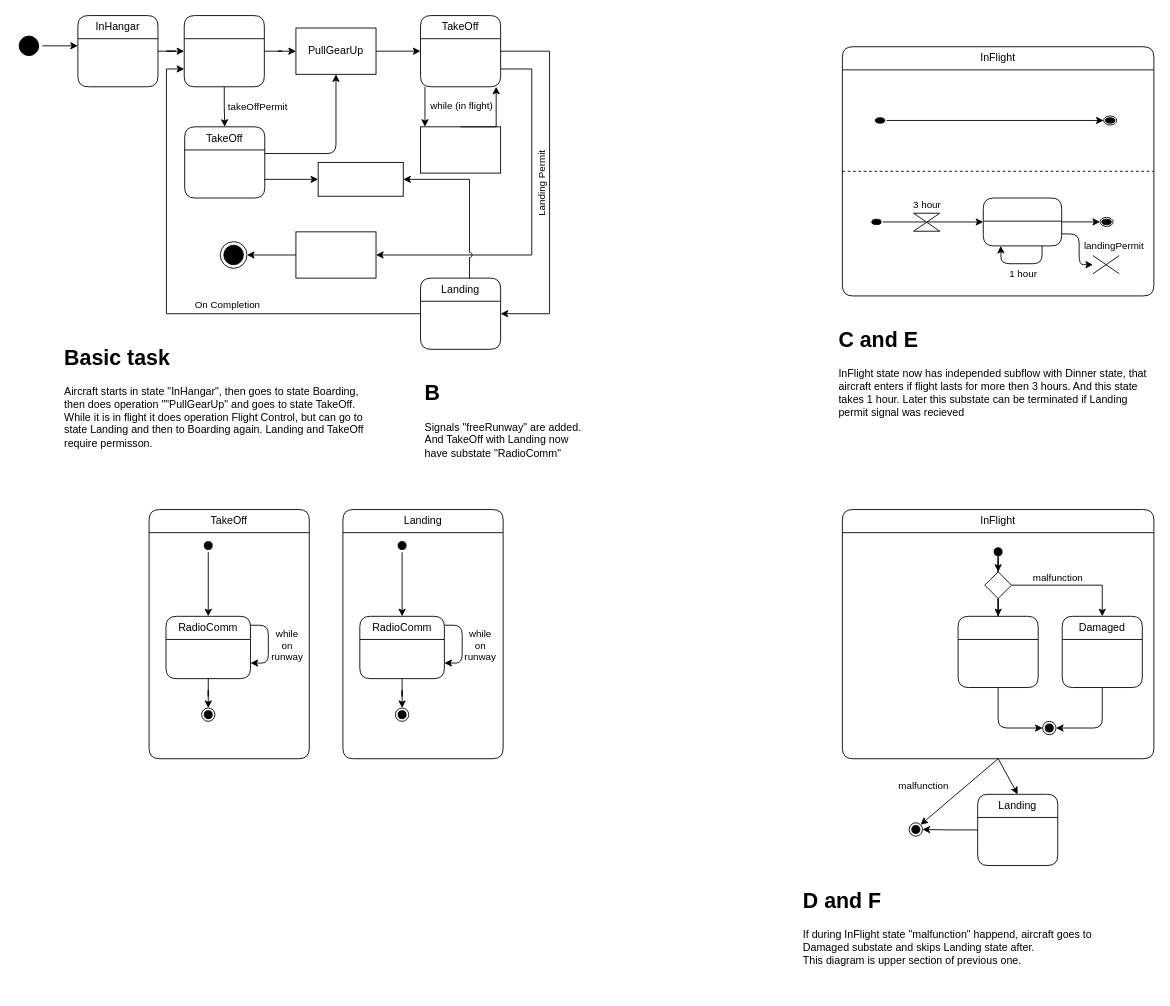
Image size: 1170x1006. Some labels were removed from this diagram. Here are the shapes that lost their labels. From the top down, the box of each, then its label:
(183, 15, 264, 87): Boardfing
(420, 126, 501, 173): Flight Control
(317, 162, 403, 196): FreeRunway(id)
(982, 197, 1062, 246): Dinner
(295, 231, 376, 278): PullGearDown
(957, 615, 1038, 688): Normal
